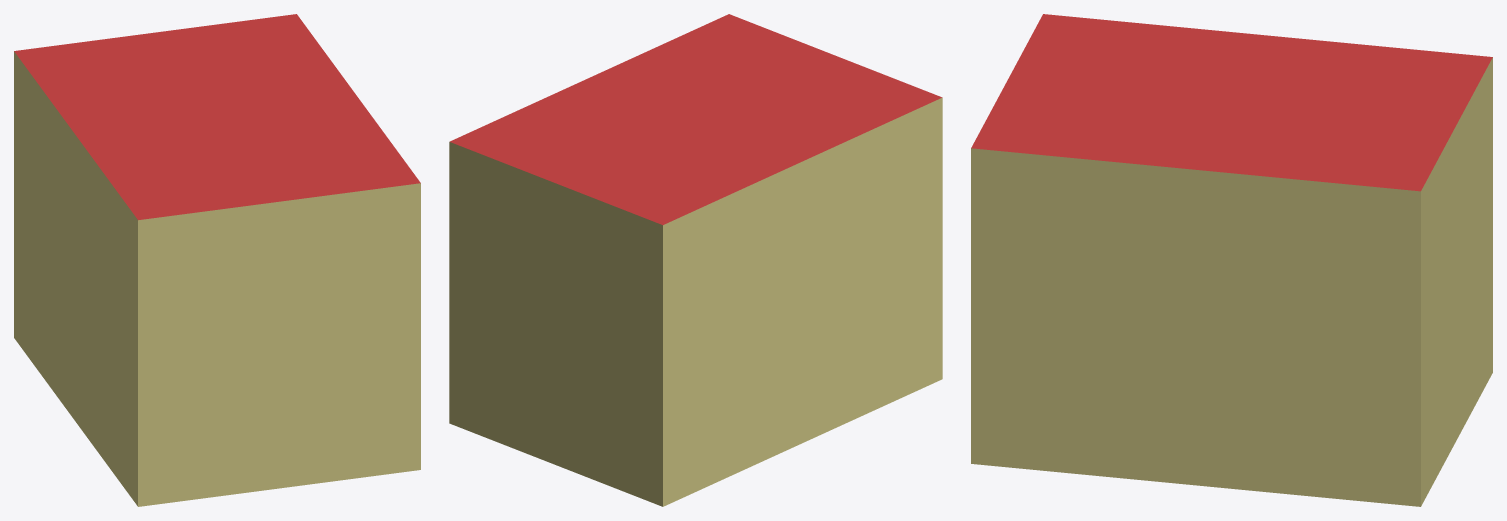
3 renders of one model, left to right at view 1: azimuth 30°, elevation 25°; view 2: azimuth 150°, elevation 25°; view 3: azimuth 270°, elevation 25°, orthographic. The views are drawn at different scales.
Visible parts, largest first — view 1: group_4, group_3; view 2: group_4, group_3; view 3: group_4, group_3.
Part boxes in pixels (x1,y1,x2,y2): group_4: (14, 51, 420, 506); group_3: (14, 14, 420, 220); group_4: (449, 97, 942, 506); group_3: (450, 14, 942, 224); group_4: (971, 57, 1492, 506); group_3: (971, 14, 1492, 191).
Bounding box in the file's own units: 6.37 × 7.91 × 5.28.
